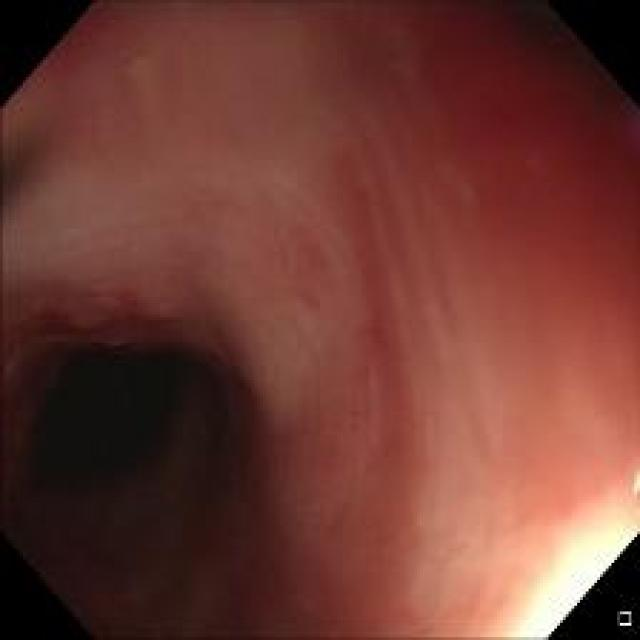blur: (29, 114, 458, 608)
contrast: (36, 252, 284, 585)
saturation: (508, 516, 638, 631)
